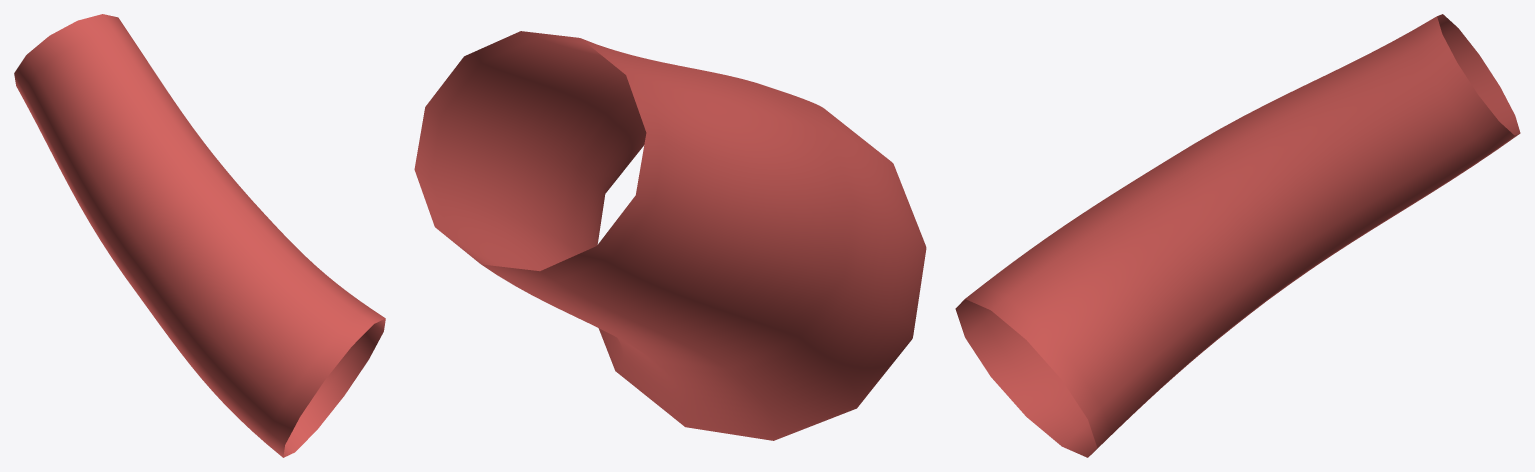
3 views of the same model, side by side, from view 1: azimuth 30°, elevation 25°; view 2: azimuth 150°, elevation 25°; view 3: azimuth 270°, elevation 25° (orthographic). The views are drawn at different scales.
Parts seen in each view (by area): view 1: 右肺下叶动脉; view 2: 右肺下叶动脉; view 3: 右肺下叶动脉.
Part boxes in pixels (x1=…): 右肺下叶动脉: x1=14, y1=14, x2=385, y2=457; 右肺下叶动脉: x1=414, y1=31, x2=926, y2=440; 右肺下叶动脉: x1=955, y1=14, x2=1520, y2=457.
Size of the model in its own units: 0.0268 by 0.0435 by 0.0564.
